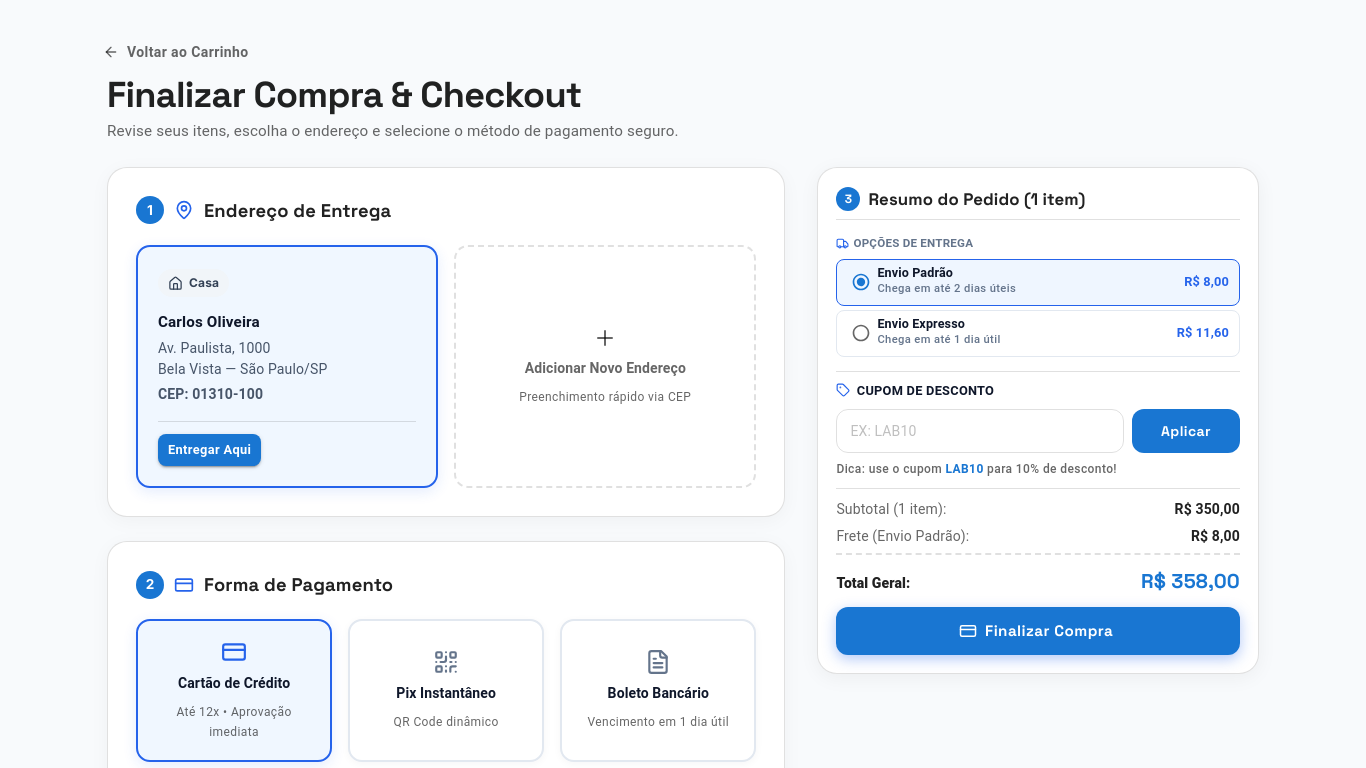
Test case: CheckoutPage - Integração do Funil E2E › permite alternar entre as formas de pagamento (Cartão, Pix, Boleto)
Check: the heading "Finalizar Compra & Checkout" is shown, box x1=107 y1=72 x2=582 y2=118
Click the heading "Pix Instantâneo": x=446, y=694 x1=396 y1=683 x2=496 y2=705
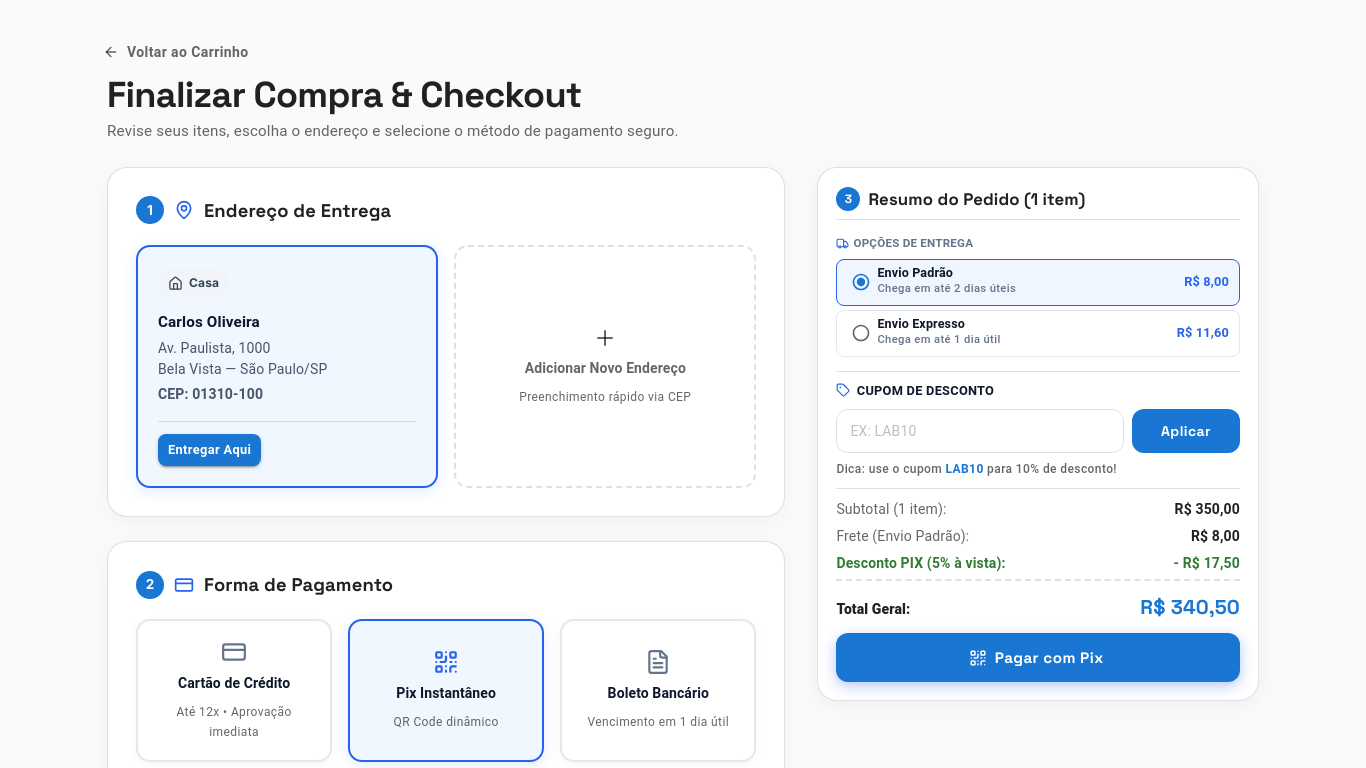
Click the heading "Boleto Bancário": x=658, y=694 x1=608 y1=683 x2=709 y2=705
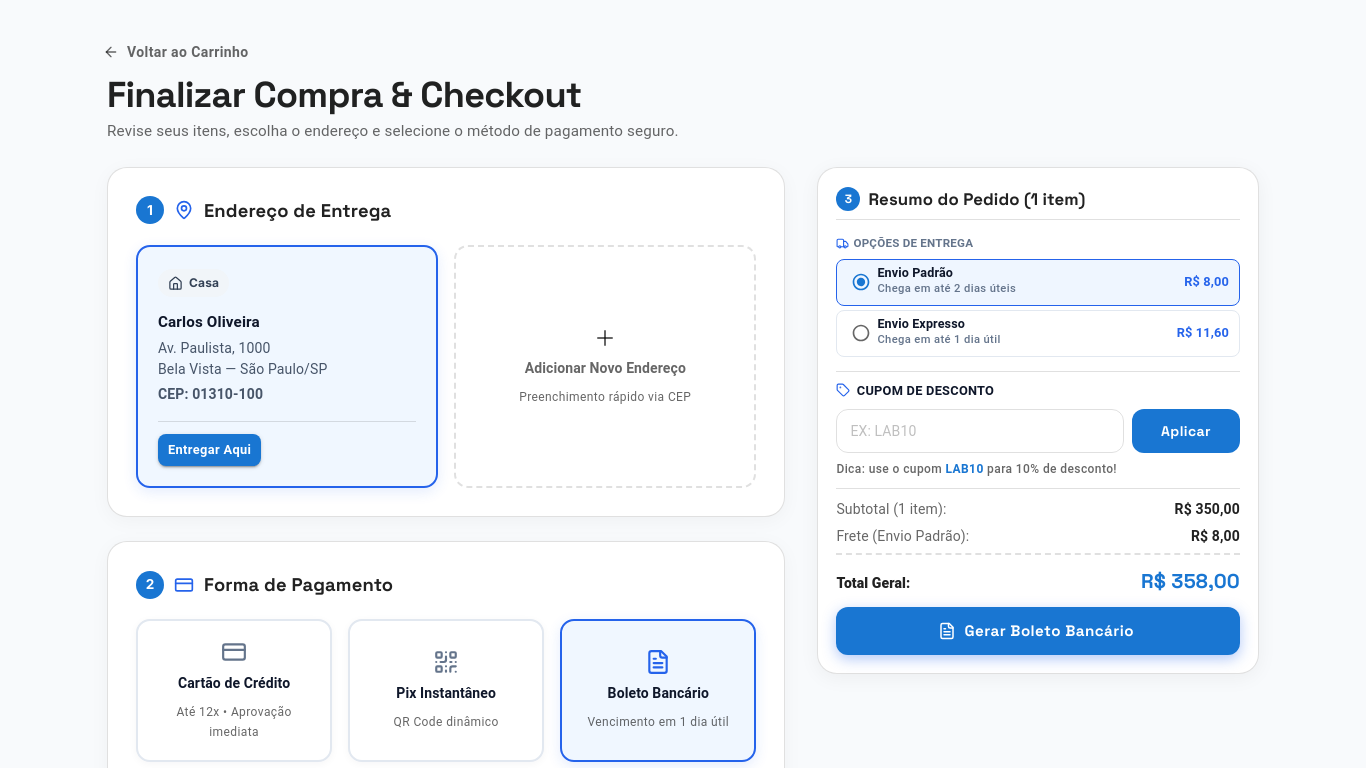
Click the heading "Cartão de Crédito": x=234, y=684 x1=178 y1=673 x2=290 y2=695
(page scrolled)
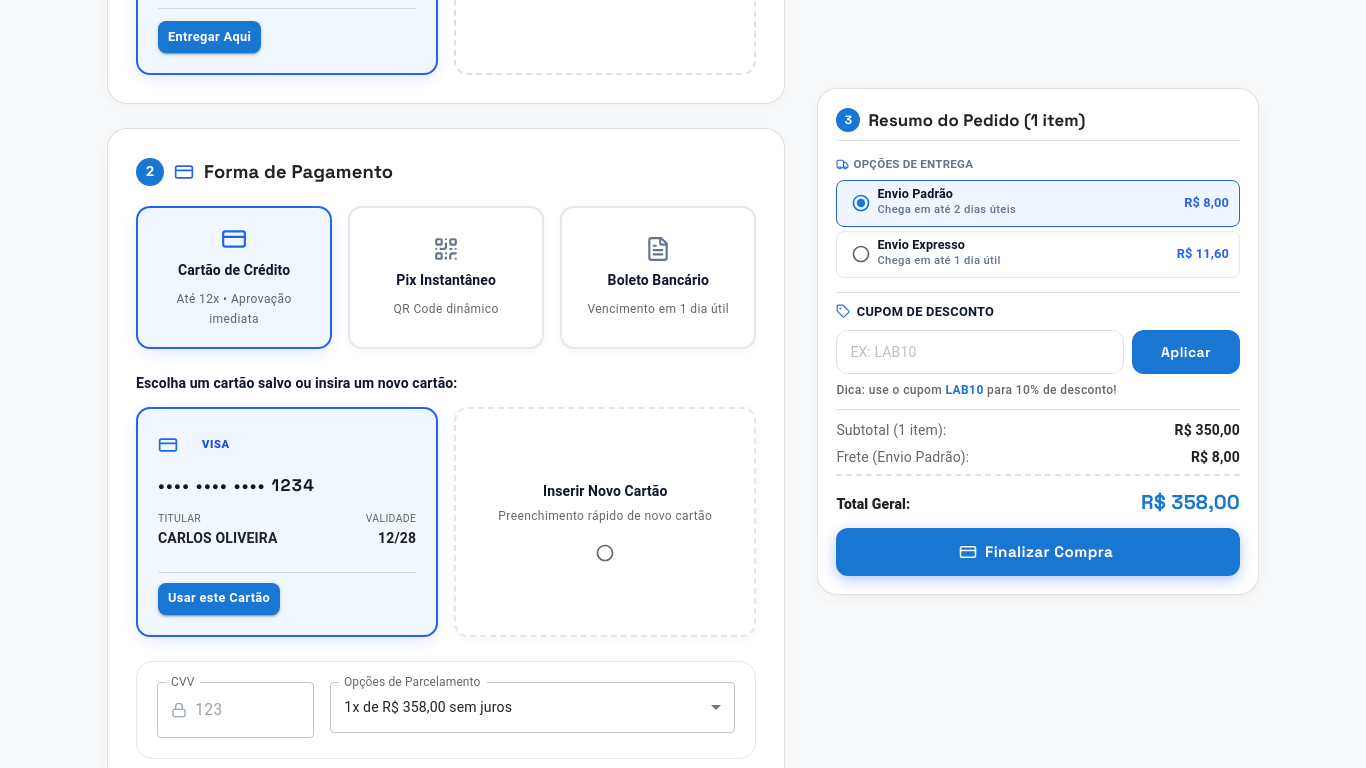
Check: the heading "Escolha um cartão salvo ou insira um novo cartão:" is shown, box x1=136 y1=375 x2=457 y2=391
